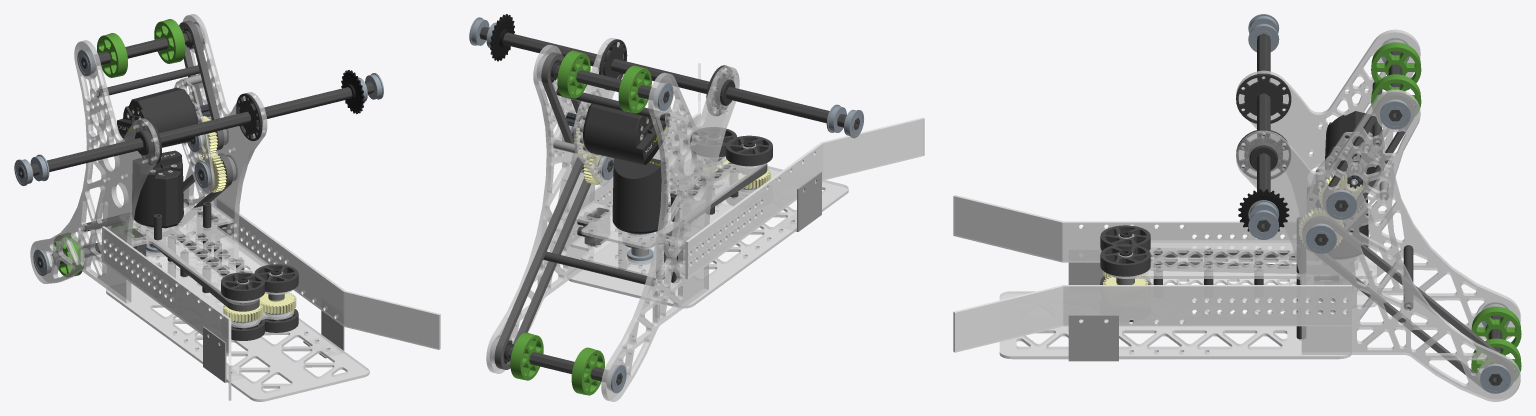
3 renders of one model, left to right at view 1: azimuth 30°, elevation 25°; view 2: azimuth 150°, elevation 25°; view 3: azimuth 270°, elevation 25°, orthographic. The views are drawn at different scales.
Parts seen in each view (by area): view 1: Arm Mount w/ Algae (×2), Claw Bent Funnels (×2), Claw Bottom Plate, Claw Plate (×2), Kraken X60 Brushless Motor (×2), 1/2" ThunderHex - 18.625", 2" 1/2" Hex Bore Flex Wheel (WCP-0133) (×4), 2" OD 1/2" Hex Bore Compliant Wheel 35A (am-3462) (×3), 84 links #25 chain, Claw Funnel to Bottom Connector (×2), 1/2" Hex Bore Aluminum Versahub (217-2592) (×2), 34t 20dp Aluminum 1/2" Hex Bore Gear (217-2706) (×3) (+8 smaller); view 2: Arm Mount w/ Algae (×2), Claw Bent Funnels (×2), Claw Plate (×2), Kraken X60 Brushless Motor (×2), Claw Bottom Plate, 2" OD 1/2" Hex Bore Compliant Wheel 35A (am-3462) (×4), 90 links #25 chain, 1/2" ThunderHex - 18.625", 2" 1/2" Hex Bore Flex Wheel (WCP-0133) (×2), 1/2" ThunderHex - 6" (×2), Long Algae Spacers (×2), 1/2" Hex Bore Aluminum Versahub (217-2592) (×2) (+7 smaller); view 3: Arm Mount w/ Algae (×2), Claw Bent Funnels (×2), Claw Plate (×2), Claw Bottom Plate, 2" OD 1/2" Hex Bore Compliant Wheel 35A (am-3462) (×4), 90 links #25 chain, .5" Hex ID 1.125" OD Flanged Bearing (217-2734) (×6), Claw Funnel to Bottom Connector (×2), 1/2" Hex Bore Aluminum Versahub (217-2592) (×2), Kraken X60 Brushless Motor (×2), 84 links #25 chain, 2" 1/2" Hex Bore Flex Wheel (WCP-0133) (×2) (+5 smaller).
Boxes of the visible parts, <box> form: Arm Mount w/ Algae (×2): <box>30,14,267,303</box>; Claw Bent Funnels (×2): <box>102,199,440,400</box>; Claw Bottom Plate: <box>106,266,369,401</box>; Claw Plate (×2): <box>110,202,294,327</box>; Kraken X60 Brushless Motor (×2): <box>117,87,200,228</box>; 1/2" ThunderHex - 18.625": <box>18,81,374,178</box>; 2" 1/2" Hex Bore Flex Wheel (WCP-0133) (×4): <box>221,264,298,340</box>; 2" OD 1/2" Hex Bore Compliant Wheel 35A (am-3462) (×3): <box>53,19,185,276</box>; 84 links #25 chain: <box>141,225,259,311</box>; Claw Funnel to Bottom Connector (×2): <box>203,310,344,382</box>; 1/2" Hex Bore Aluminum Versahub (217-2592) (×2): <box>135,93,262,165</box>; 34t 20dp Aluminum 1/2" Hex Bore Gear (217-2706) (×3): <box>201,153,296,322</box>; Arm Mount w/ Algae (×2): <box>486,38,739,401</box>; Claw Bent Funnels (×2): <box>563,63,924,279</box>; Claw Plate (×2): <box>570,151,766,275</box>; Kraken X60 Brushless Motor (×2): <box>580,103,668,233</box>; Claw Bottom Plate: <box>568,166,848,308</box>; 2" OD 1/2" Hex Bore Compliant Wheel 35A (am-3462) (×4): <box>510,50,651,395</box>; 90 links #25 chain: <box>494,157,590,369</box>; 1/2" ThunderHex - 18.625": <box>479,27,859,130</box>; 2" 1/2" Hex Bore Flex Wheel (WCP-0133) (×2): <box>690,127,772,166</box>; 1/2" ThunderHex - 6" (×2): <box>507,64,669,385</box>; Long Algae Spacers (×2): <box>543,88,670,286</box>; 1/2" Hex Bore Aluminum Versahub (217-2592) (×2): <box>598,39,735,115</box>; Arm Mount w/ Algae (×2): <box>1236,29,1520,401</box>; Claw Bent Funnels (×2): <box>953,195,1351,352</box>; Claw Plate (×2): <box>1105,240,1376,312</box>; Claw Bottom Plate: <box>999,291,1351,359</box>; 2" OD 1/2" Hex Bore Compliant Wheel 35A (am-3462) (×4): <box>1371,42,1521,381</box>; 90 links #25 chain: <box>1302,216,1514,389</box>; .5" Hex ID 1.125" OD Flanged Bearing (217-2734) (×6): <box>1248,23,1510,393</box>; Claw Funnel to Bottom Connector (×2): <box>1068,250,1118,361</box>; 1/2" Hex Bore Aluminum Versahub (217-2592) (×2): <box>1236,73,1291,179</box>; Kraken X60 Brushless Motor (×2): <box>1307,111,1383,258</box>; 84 links #25 chain: <box>1149,248,1357,273</box>; 2" 1/2" Hex Bore Flex Wheel (WCP-0133) (×2): <box>1100,225,1150,276</box>.
Size of the model in its own units: 0.4731 by 0.3455 by 0.5733.
